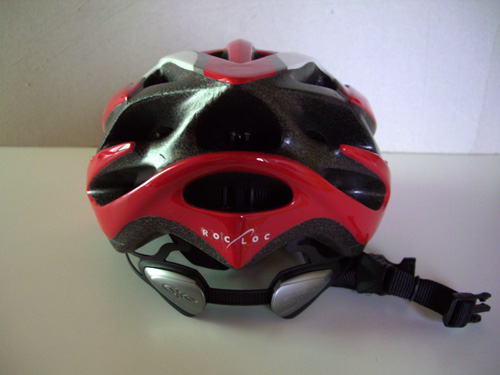helmet: (104, 64, 387, 254)
